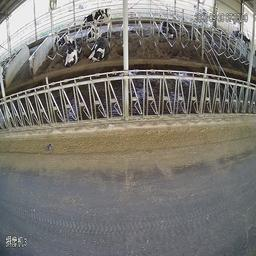cow: (78, 9, 110, 31), (88, 35, 110, 62), (64, 36, 78, 67), (159, 18, 175, 41)
